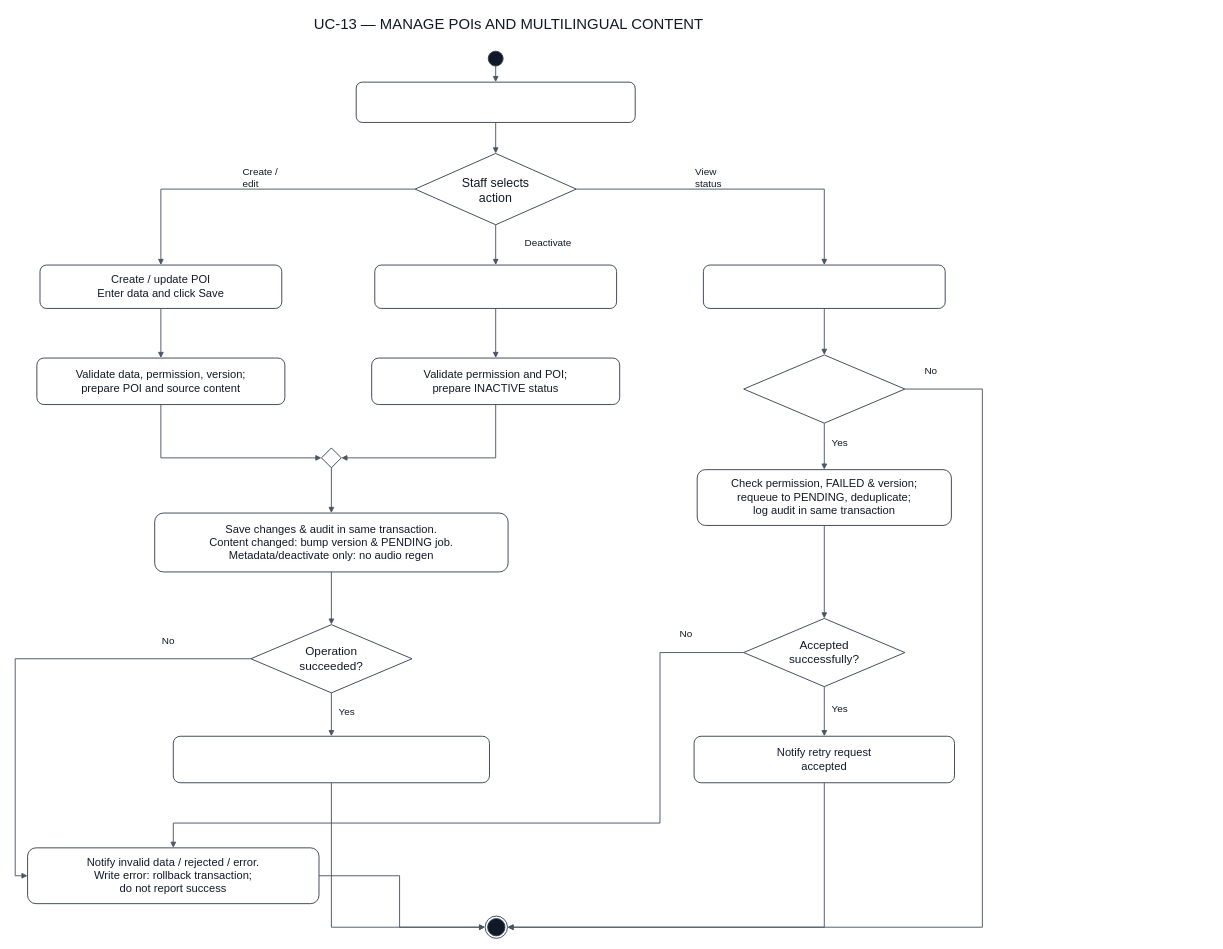
The diagram is 1223 pixels wide and 949 high, and some of its shapes have lost their labels. Here are the shapes that lost their labels. From the top down, the box of each, then its label:
(355, 81, 635, 123): Check STAFF/ADMIN permission; display POI list
(374, 264, 617, 309): Select POI and confirm deactivation
(703, 264, 945, 309): Select POI; view content status by language
(743, 354, 905, 423): Retry failed job selected?
(173, 736, 490, 783): Notify saved and content status; do not wait for translation / audio completion
